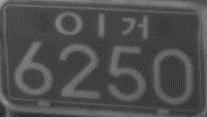0: (151, 46, 194, 105), (54, 10, 84, 36)
1: (89, 12, 113, 38)
2: (58, 42, 99, 99)
5: (106, 44, 147, 102)
6: (13, 40, 53, 96)
거: (120, 13, 149, 39)
